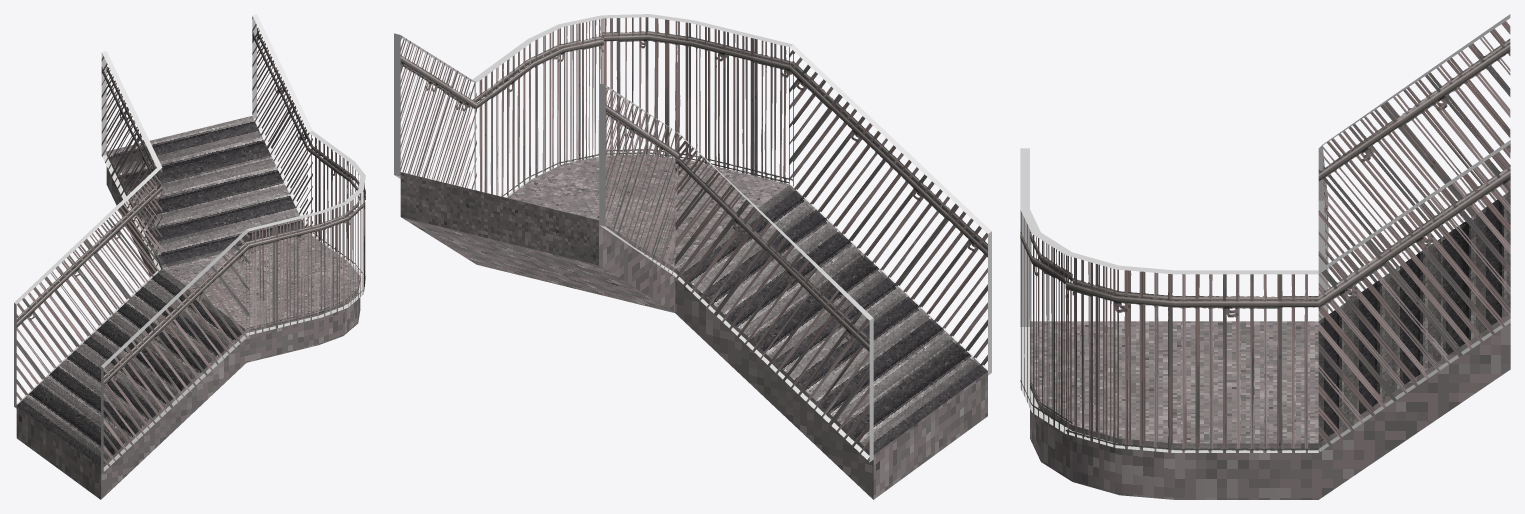
The model's file is raput batch2_RAPUT_VAR1.fbx.
3 renders of one model, left to right at view 1: azimuth 30°, elevation 25°; view 2: azimuth 150°, elevation 25°; view 3: azimuth 270°, elevation 25°, orthographic. The views are drawn at different scales.
Parts seen in each view (by area): view 1: raputpohja VAR1, raputkaide.001; view 2: raputpohja VAR1, raputkaide.001; view 3: raputpohja VAR1, raputkaide.001.
Part boxes in pixels (x1,y1,x2,y2): raputpohja VAR1: (16, 116, 360, 499); raputkaide.001: (14, 14, 365, 472); raputpohja VAR1: (400, 154, 987, 499); raputkaide.001: (394, 14, 991, 462); raputpohja VAR1: (1030, 192, 1510, 499); raputkaide.001: (1020, 14, 1510, 452).
Size of the model in its own units: 305 by 306 by 255.
